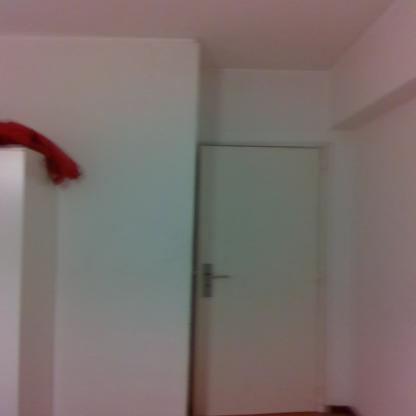door: (197, 144, 323, 415)
lever: (206, 272, 230, 281)
